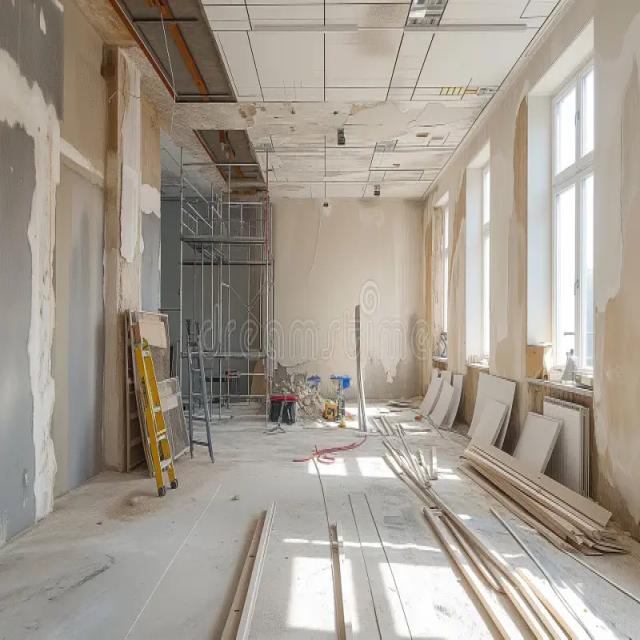Interior Finishing and Carpentry: (39, 23, 570, 640)
